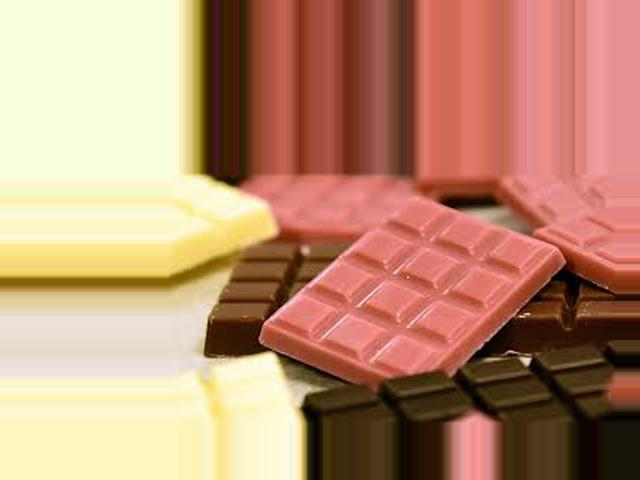chocolate: (264, 186, 564, 424)
